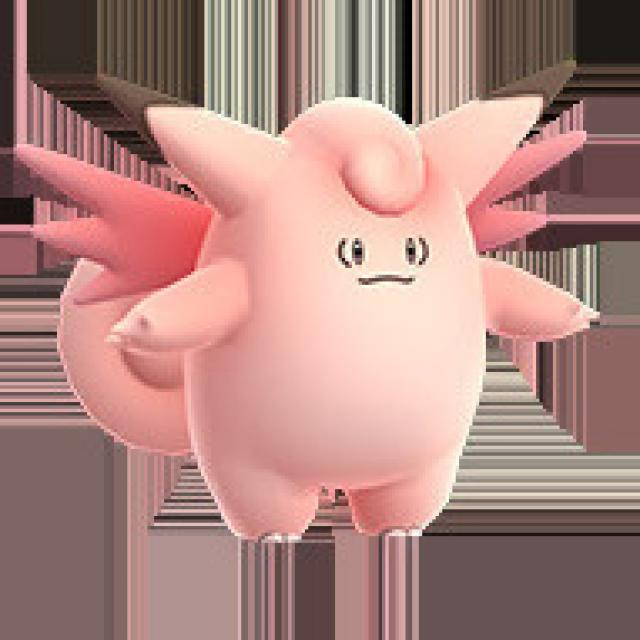Clefable: (128, 85, 555, 542)
